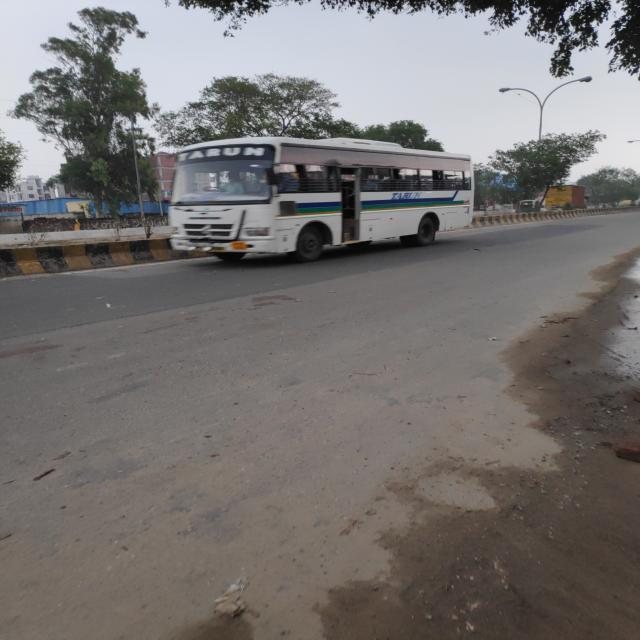bus_front: (142, 134, 478, 272)
truck_back: (542, 180, 596, 212)
